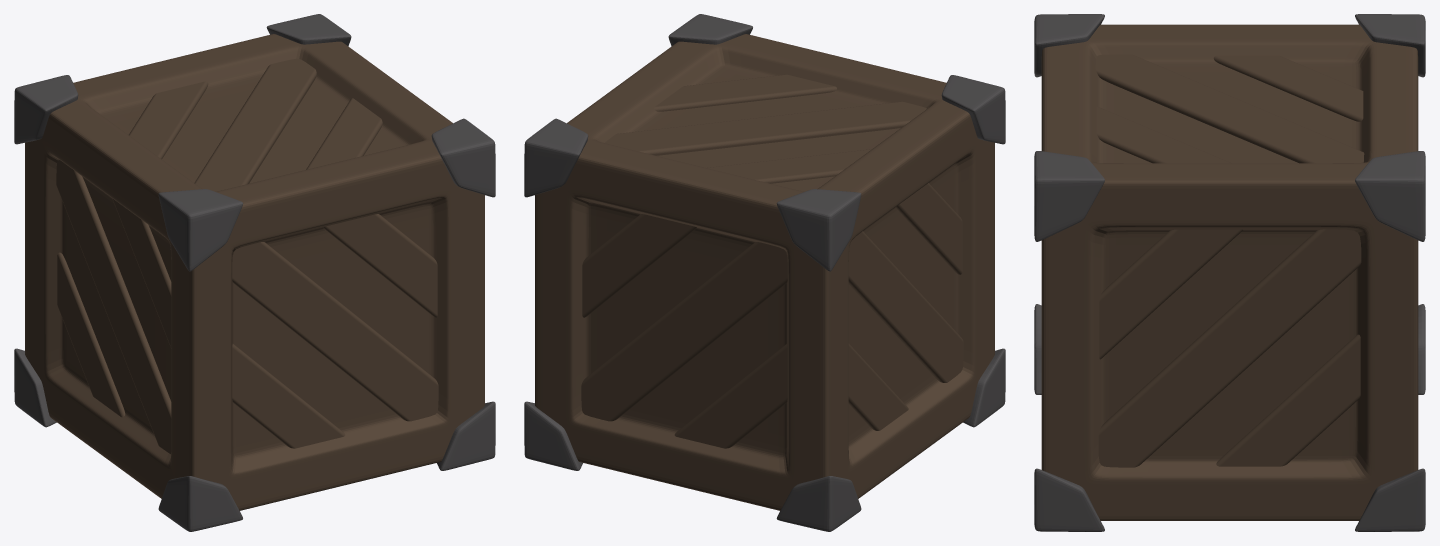
3 views of the same model, side by side, from view 1: azimuth 30°, elevation 25°; view 2: azimuth 150°, elevation 25°; view 3: azimuth 270°, elevation 25° (orthographic). The views are drawn at different scales.
Parts seen in each view (by area): view 1: Cube.004; view 2: Cube.004; view 3: Cube.004.
Boxes of the visible parts, left/top/right/bottom form: Cube.004: left=14, top=14, right=495, bottom=531; Cube.004: left=524, top=14, right=1005, bottom=531; Cube.004: left=1034, top=14, right=1425, bottom=531.
Size of the model in its own units: 389 by 385 by 386.
